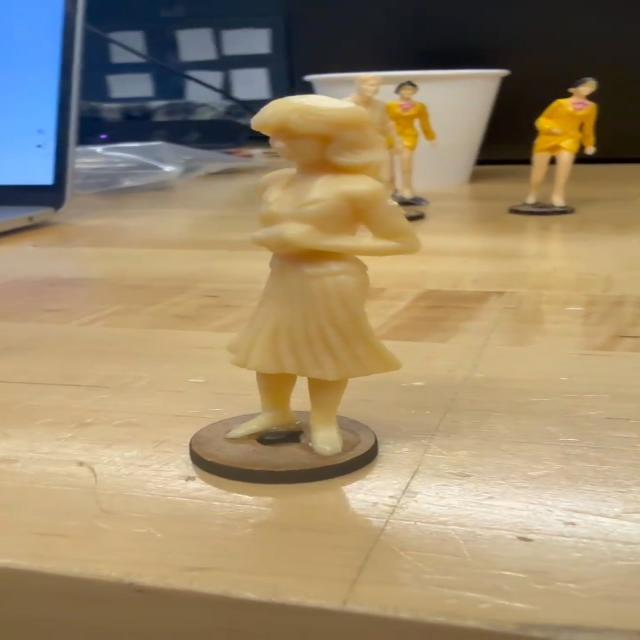Unauthorized: (200, 81, 435, 487)
